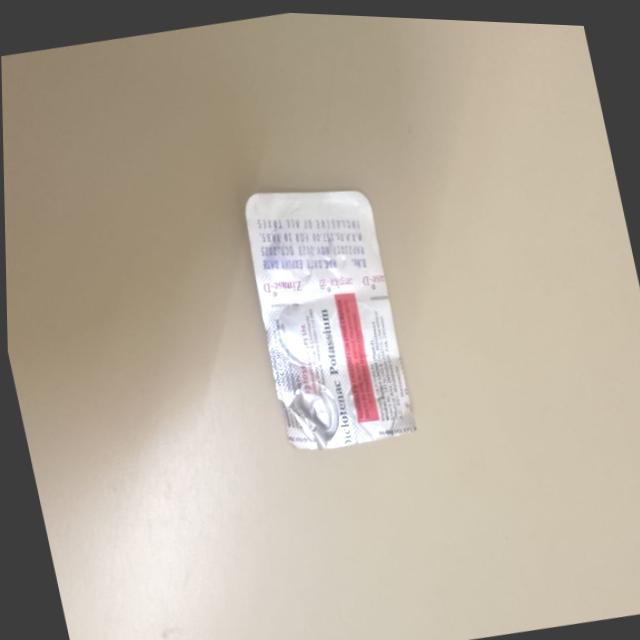medicine: (225, 161, 449, 487)
